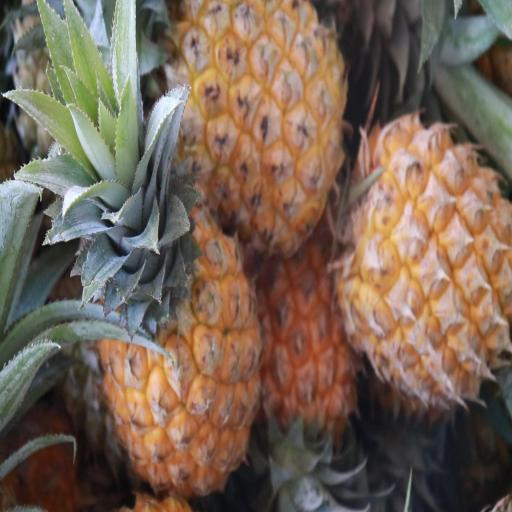Pineapple - v8 v1: (88, 131, 262, 498), (345, 113, 512, 416), (175, 0, 345, 251), (262, 236, 372, 482)
